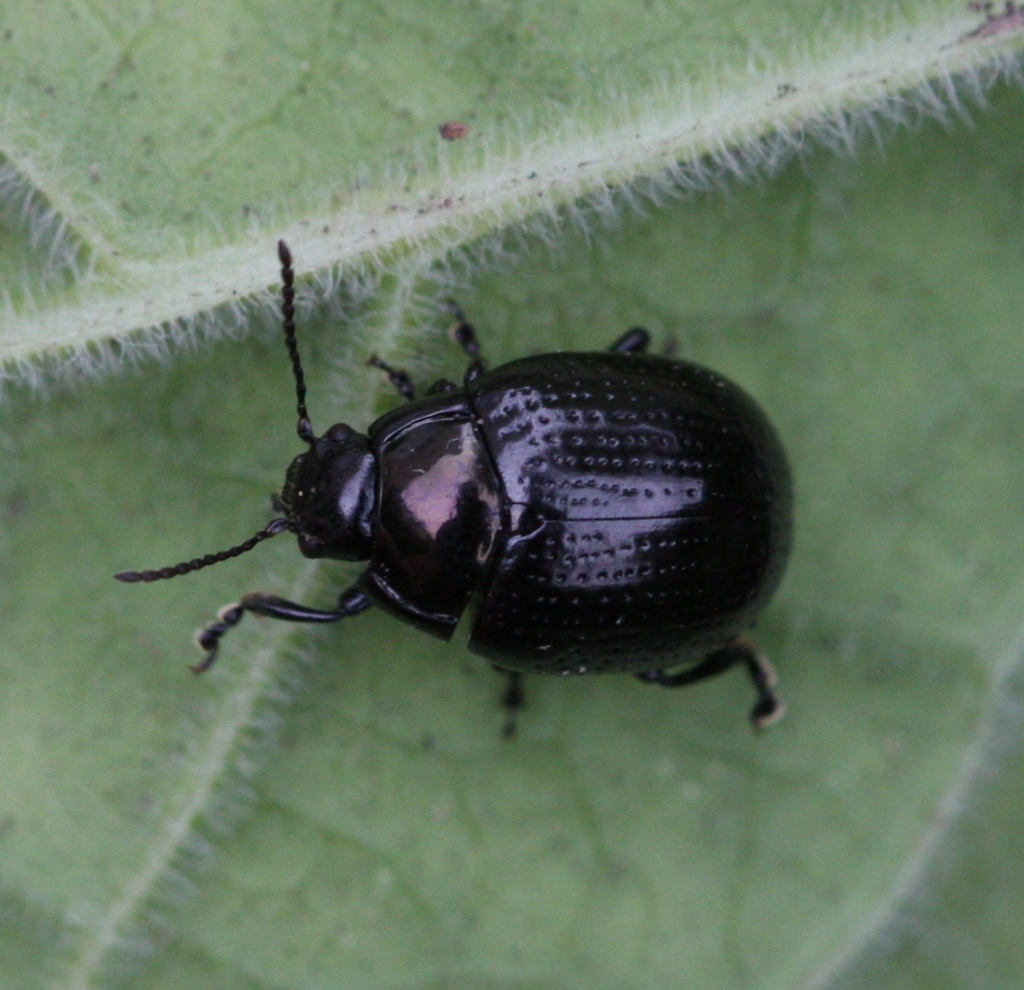Chrysolina_oricalcia: (97, 240, 814, 748)
